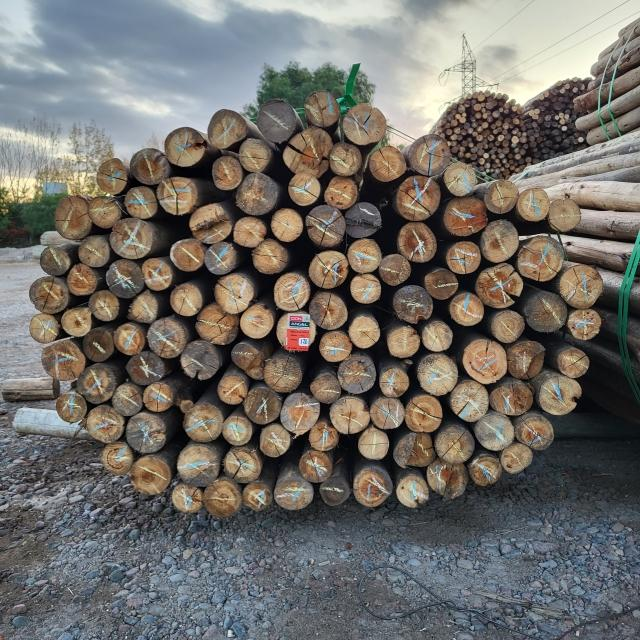package: (30, 90, 604, 521), (435, 90, 534, 186), (536, 77, 600, 162)
